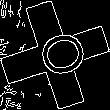O_W: (24, 26, 86, 84)
